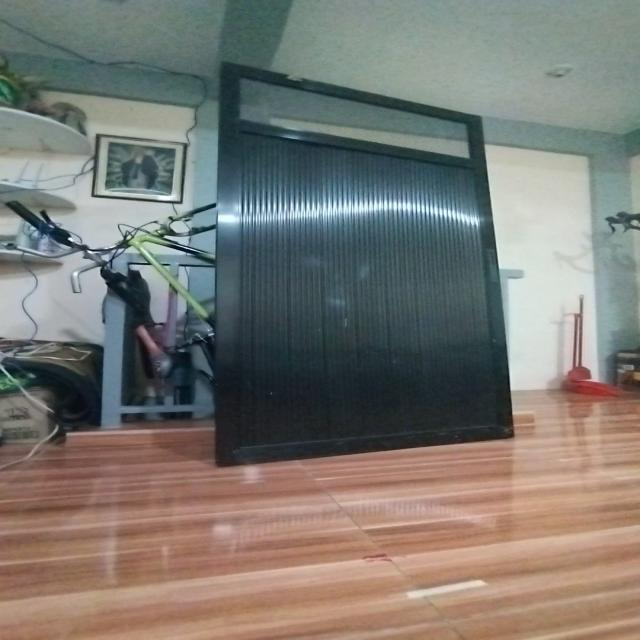door: (205, 73, 511, 458)
